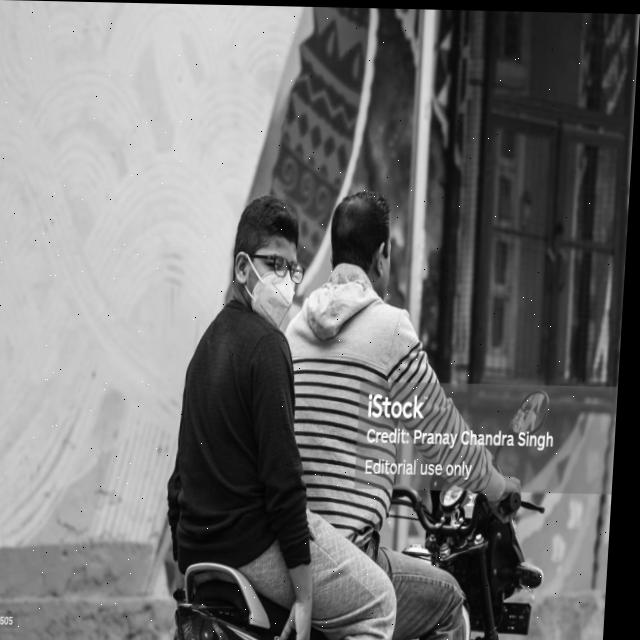without helmet: (226, 181, 320, 336), (325, 187, 407, 314)
